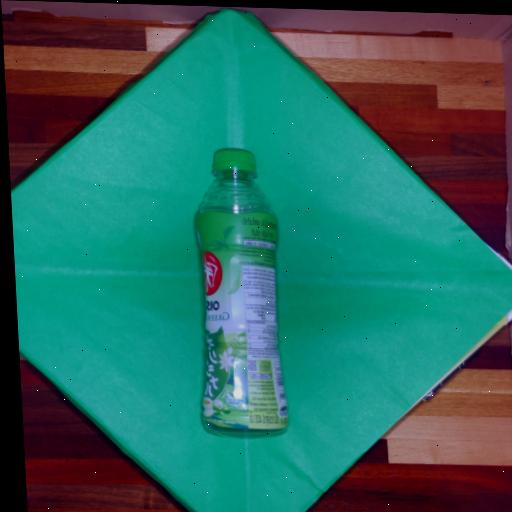bottle: (184, 145, 289, 438)
